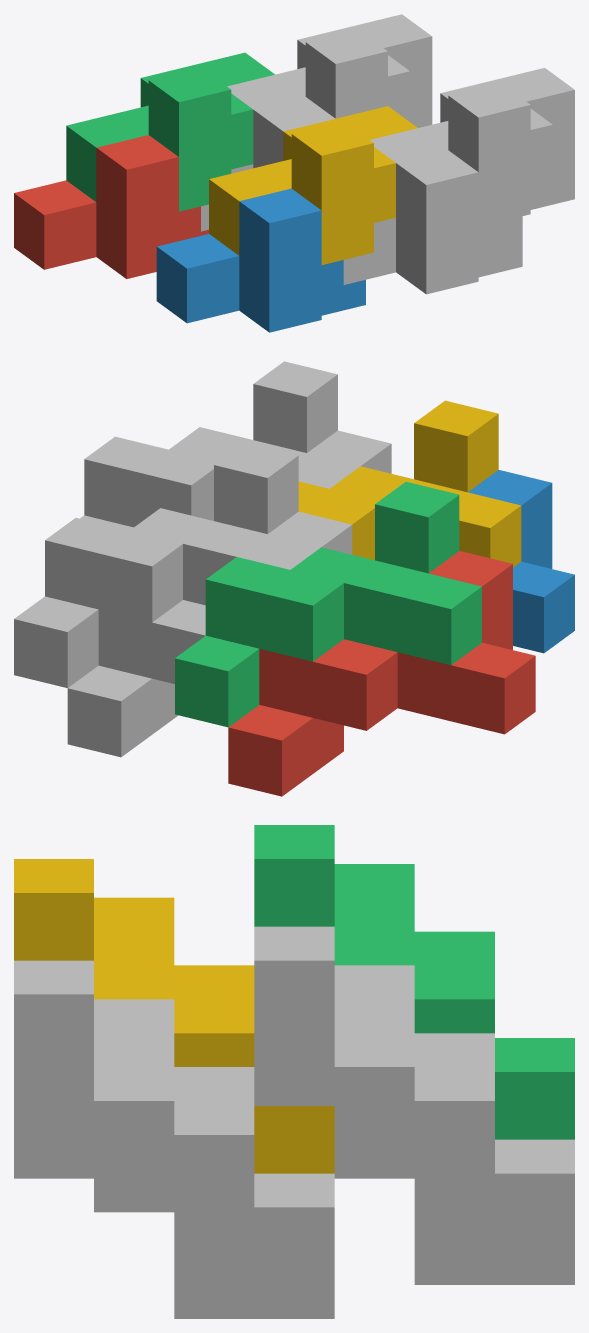
The model's file is tiling.obj.
3 renders of one model, top to bottom at view 1: azimuth 30°, elevation 25°; view 2: azimuth 150°, elevation 25°; view 3: azimuth 270°, elevation 25°, orthographic. The views are drawn at different scales.
Visible parts, largest first — view 1: copy_1_domain_2, copy_1_domain_8, copy_1_domain_1, copy_1_domain_4, copy_1_domain_3, copy_1_domain_6, copy_1_domain_7, copy_1_domain_5; view 2: copy_1_domain_3, copy_1_domain_7, copy_1_domain_1, copy_1_domain_8, copy_1_domain_5, copy_1_domain_4, copy_1_domain_2, copy_1_domain_6; view 3: copy_1_domain_7, copy_1_domain_8, copy_1_domain_3, copy_1_domain_4, copy_1_domain_6, copy_1_domain_5.
Part boxes in pixels (x1=…): copy_1_domain_2: x1=156, y1=188, x2=365, y2=332; copy_1_domain_8: x1=370, y1=68, x2=574, y2=226; copy_1_domain_1: x1=14, y1=135, x2=208, y2=278; copy_1_domain_4: x1=209, y1=106, x2=417, y2=264; copy_1_domain_3: x1=66, y1=52, x2=274, y2=211; copy_1_domain_6: x1=343, y1=150, x2=522, y2=294; copy_1_domain_7: x1=227, y1=14, x2=432, y2=127; copy_1_domain_5: x1=201, y1=96, x2=335, y2=231; copy_1_domain_3: x1=175, y1=481, x2=481, y2=727; copy_1_domain_7: x1=14, y1=442, x2=320, y2=687; copy_1_domain_1: x1=228, y1=551, x2=535, y2=796; copy_1_domain_8: x1=80, y1=361, x2=360, y2=530; copy_1_domain_5: x1=67, y1=511, x2=352, y2=757; copy_1_domain_4: x1=298, y1=400, x2=521, y2=567; copy_1_domain_2: x1=468, y1=470, x2=574, y2=653; copy_1_domain_6: x1=307, y1=430, x2=391, y2=473; copy_1_domain_7: x1=254, y1=926, x2=574, y2=1246; copy_1_domain_8: x1=14, y1=960, x2=334, y2=1279; copy_1_domain_3: x1=254, y1=825, x2=574, y2=1139; copy_1_domain_4: x1=14, y1=859, x2=334, y2=1173; copy_1_domain_6: x1=14, y1=1139, x2=334, y2=1318; copy_1_domain_5: x1=334, y1=1139, x2=574, y2=1284.
Bounding box in the file's own units: 9 × 4 × 7.
